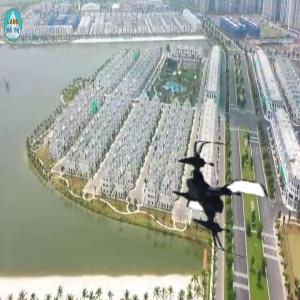drone: (165, 140, 283, 258)
